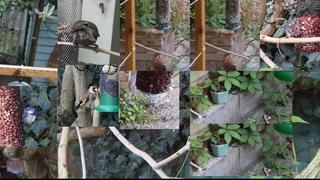blue tit: (20, 106, 37, 131)
goldfinch: (73, 85, 99, 112)
mouse: (277, 20, 300, 59)
starling: (72, 20, 100, 54)
